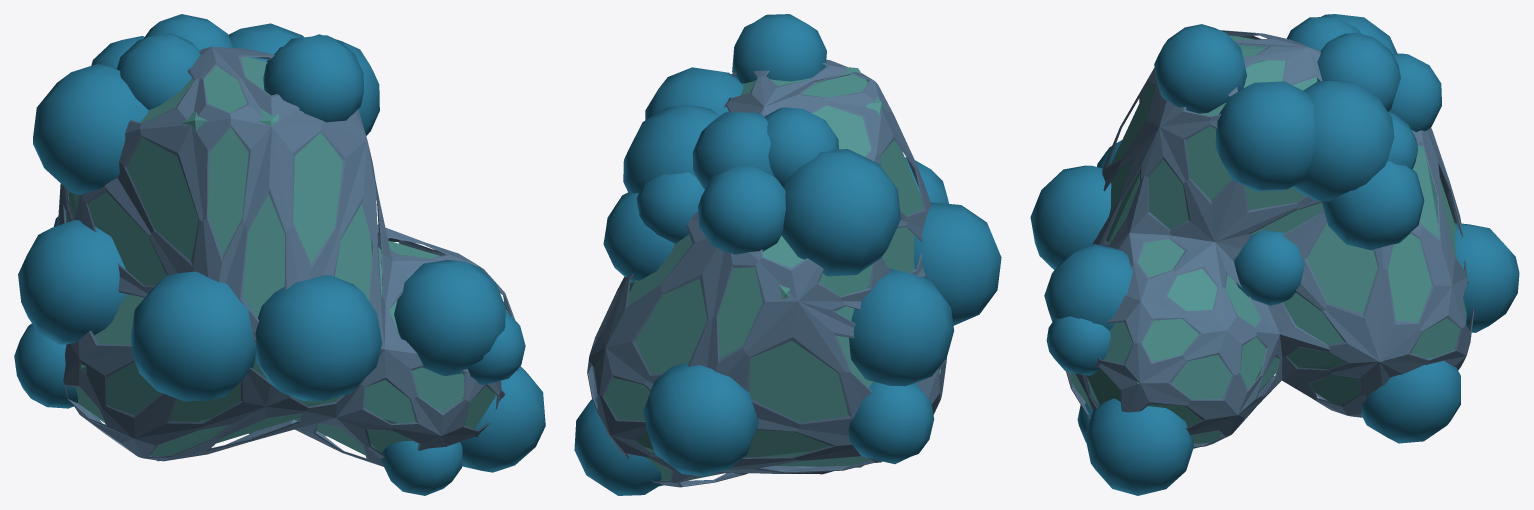
Rendered from glueBush5.fbx.
The picture shows the model from 3 angles, left to right: view 1: azimuth 30°, elevation 25°; view 2: azimuth 150°, elevation 25°; view 3: azimuth 270°, elevation 25°; orthographic projection. The views are drawn at different scales.
Visible parts, largest first — view 1: Mball.015; view 2: Mball.015; view 3: Mball.015.
Part boxes in pixels (x1,y1,x2,y2): Mball.015: (14, 14, 545, 495); Mball.015: (574, 14, 1001, 495); Mball.015: (1030, 14, 1519, 495).
Bounding box in the file's own units: 258 × 257 × 285.
